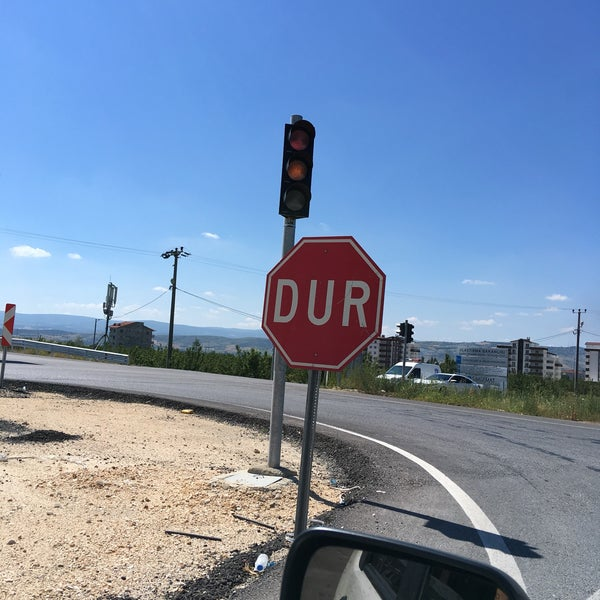dur: (260, 235, 390, 378)
